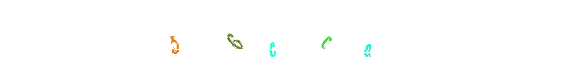5: (134, 0, 214, 80)
6: (213, 0, 293, 80)
A: (283, 0, 363, 80)
C: (247, 0, 327, 80)
E: (224, 0, 304, 80)
